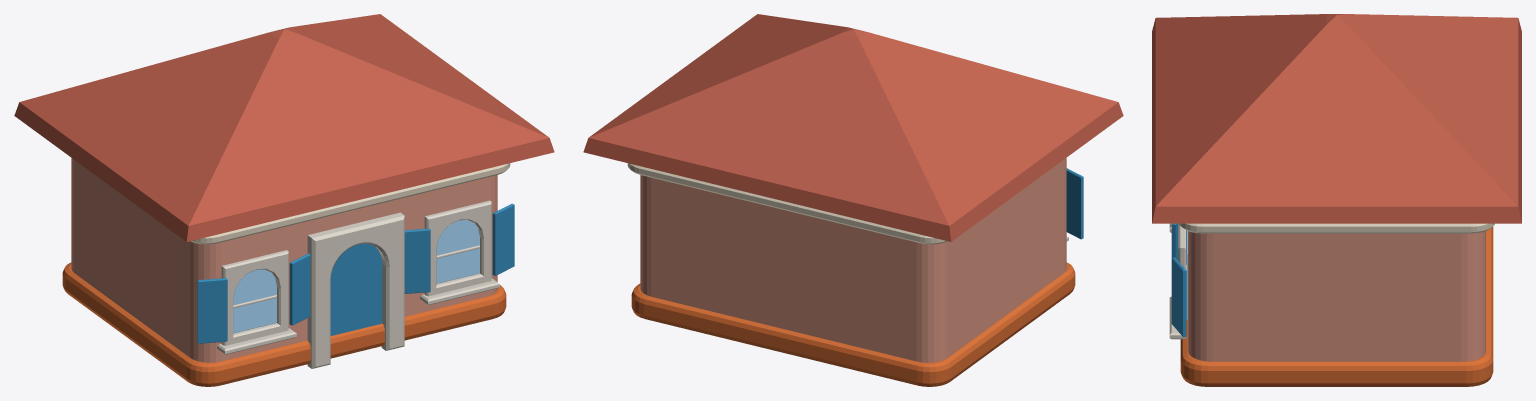
The model's file is casa_p.glb.
3 renders of one model, left to right at view 1: azimuth 30°, elevation 25°; view 2: azimuth 150°, elevation 25°; view 3: azimuth 270°, elevation 25°, orthographic. The views are drawn at different scales.
Parts seen in each view (by area): view 1: casa_p_corpo, casa_p_vidro; view 2: casa_p_corpo; view 3: casa_p_corpo.
Boxes of the visible parts, box(x1,y1,x2,y2) form: casa_p_corpo: box(14, 14, 554, 386); casa_p_vidro: box(233, 220, 479, 333); casa_p_corpo: box(583, 14, 1123, 386); casa_p_corpo: box(1152, 14, 1521, 386).
Size of the model in its own units: 9.18 by 6.54 by 7.45.
